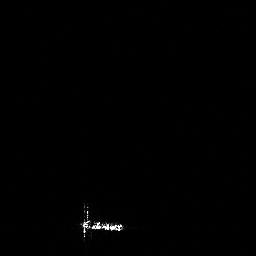ship: (76, 202, 127, 239)
